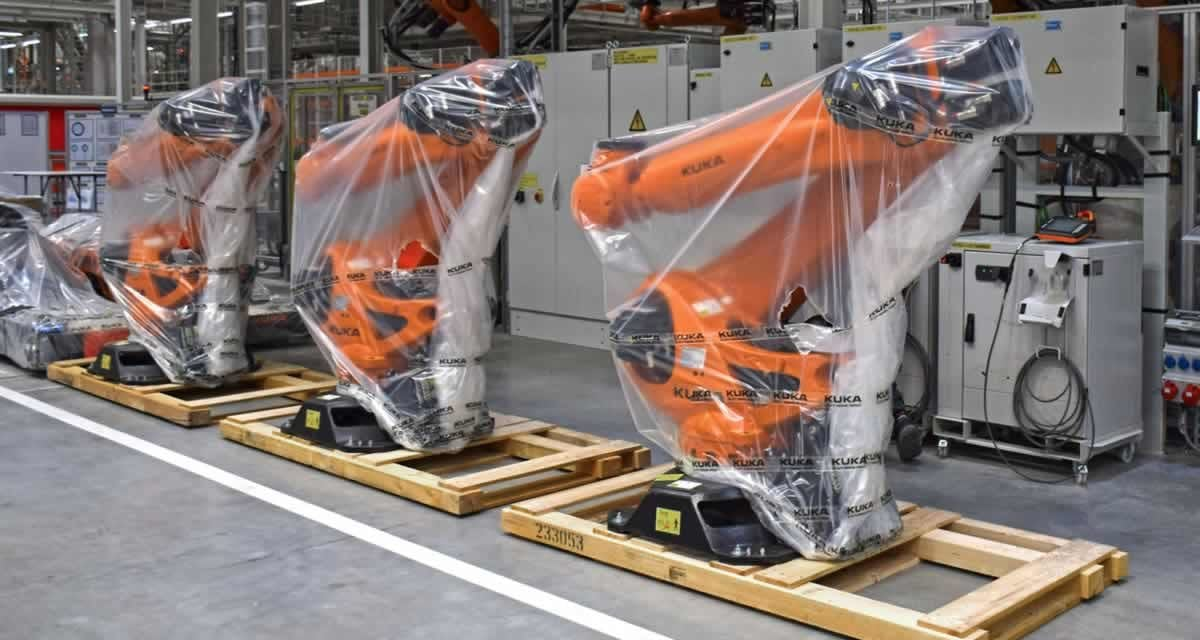robot: (571, 28, 1039, 562), (290, 57, 547, 456), (88, 75, 289, 389)
